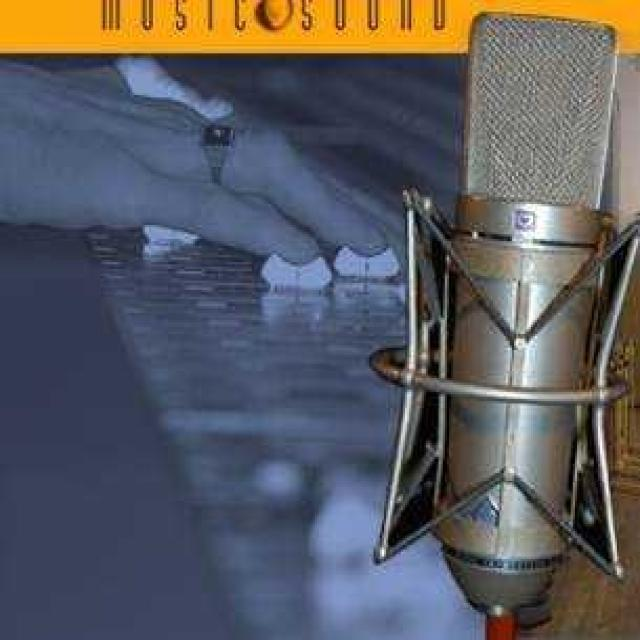microphone: (435, 20, 613, 620)
